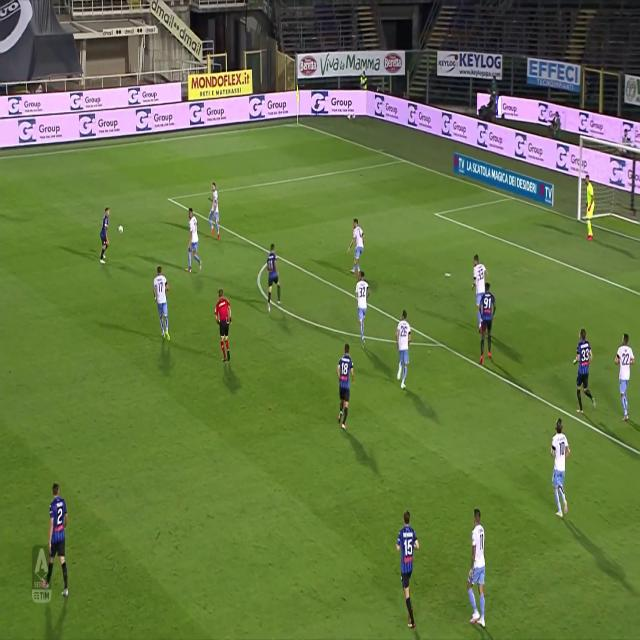Ball: (118, 220, 125, 240)
GoalKeeper: (581, 174, 597, 243)
TEAM 1: (43, 482, 68, 599), (396, 512, 419, 632), (573, 330, 597, 414), (475, 278, 497, 365), (337, 346, 354, 428), (263, 247, 282, 310), (99, 206, 113, 264)
TEAM 2: (466, 511, 486, 630), (551, 418, 571, 517), (616, 333, 637, 422), (396, 311, 414, 389), (154, 266, 172, 344), (469, 244, 488, 316), (356, 274, 371, 344), (346, 218, 364, 276), (188, 208, 202, 275), (206, 183, 218, 239)
